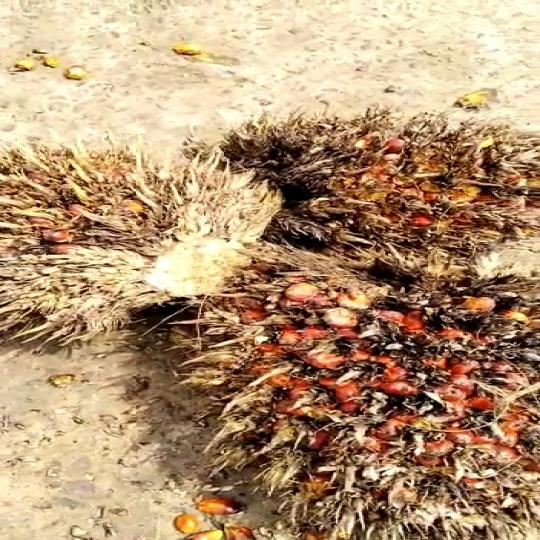terlalu masak: (168, 246, 540, 540), (0, 157, 292, 334), (236, 116, 540, 246)
